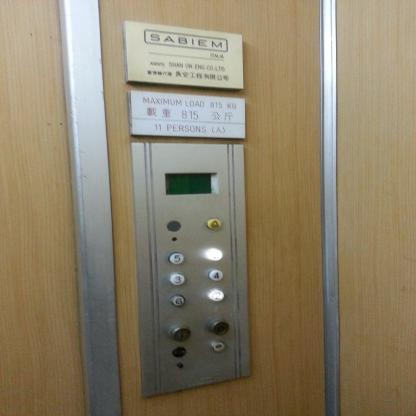2: (208, 290, 224, 302)
3: (170, 274, 186, 286)
4: (208, 269, 224, 281)
5: (168, 252, 184, 264)
G: (170, 295, 185, 306)
alarm: (206, 218, 222, 231)
blur: (207, 316, 230, 335), (206, 247, 223, 262)
empty: (166, 219, 182, 233)
keyhole: (168, 323, 191, 342)
led: (164, 172, 217, 195)
open: (210, 340, 225, 352)
text_blur: (172, 346, 187, 358)
